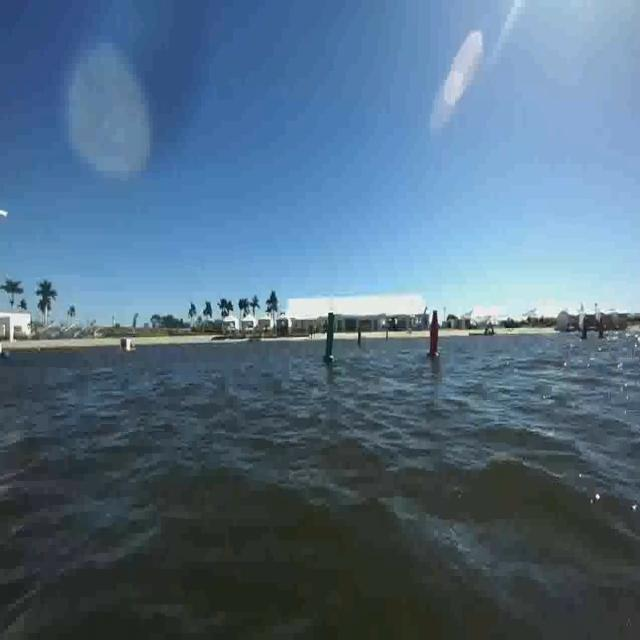green-column-buoy: (321, 312, 340, 366)
red-column-buoy: (425, 312, 442, 361)
